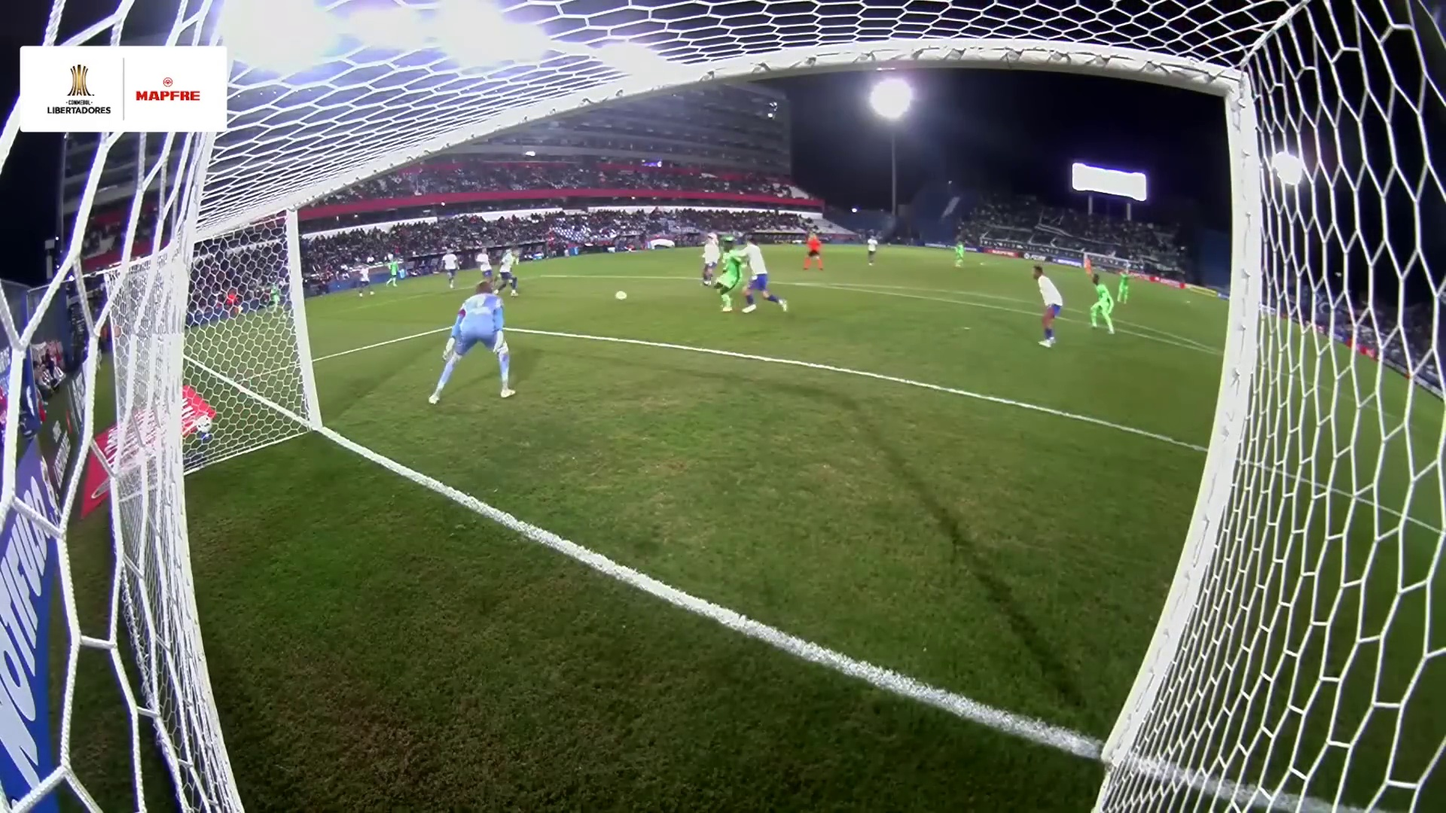ball: (615, 289, 626, 299)
player: (431, 278, 514, 403), (736, 232, 788, 315), (180, 379, 216, 476), (1030, 265, 1067, 347), (715, 237, 746, 312), (1088, 272, 1116, 333), (494, 244, 522, 297), (699, 228, 722, 287), (1113, 268, 1144, 302), (437, 252, 461, 288), (472, 249, 496, 285), (357, 263, 375, 297), (864, 231, 879, 266), (953, 241, 967, 267), (387, 261, 400, 288)
referee: (802, 228, 826, 272)
